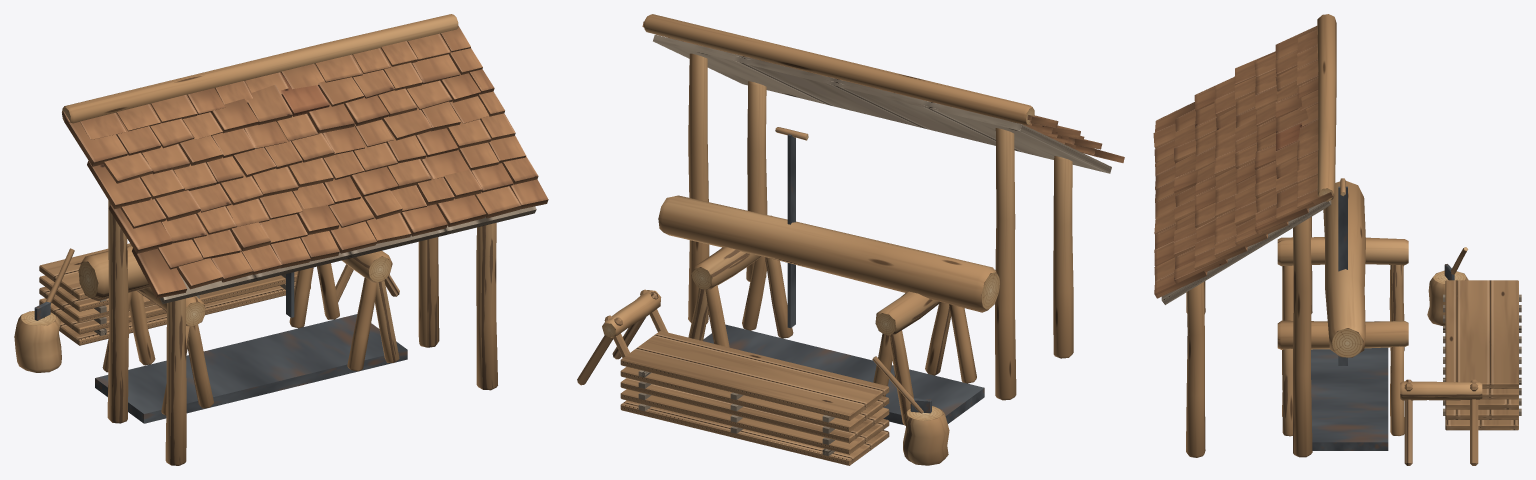
Rendered from bw_sawpit.fbx.
3 views of the same model, side by side, from view 1: azimuth 30°, elevation 25°; view 2: azimuth 150°, elevation 25°; view 3: azimuth 270°, elevation 25° (orthographic). The views are drawn at different scales.
Visible parts, largest first — view 1: bw_sawpit; view 2: bw_sawpit; view 3: bw_sawpit.
Part boxes in pixels (x1,y1,x2,y2): bw_sawpit: (14, 14, 548, 465); bw_sawpit: (577, 14, 1124, 465); bw_sawpit: (1153, 14, 1521, 465).
Size of the model in its own units: 2.53 by 1.98 by 2.25.
